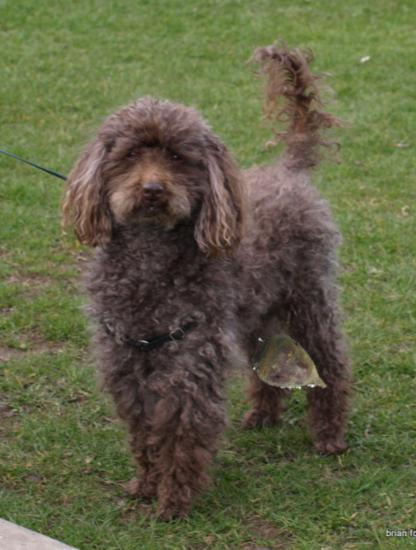Beetroot: (250, 324, 332, 406)
